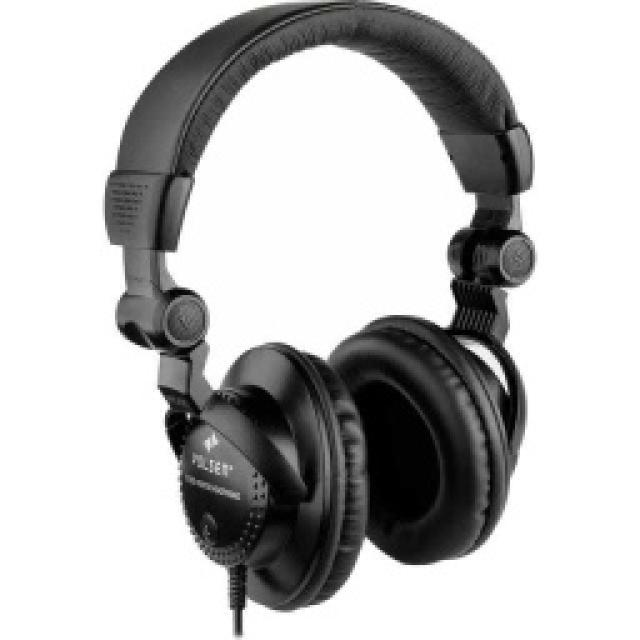headphones: (100, 0, 538, 625)
